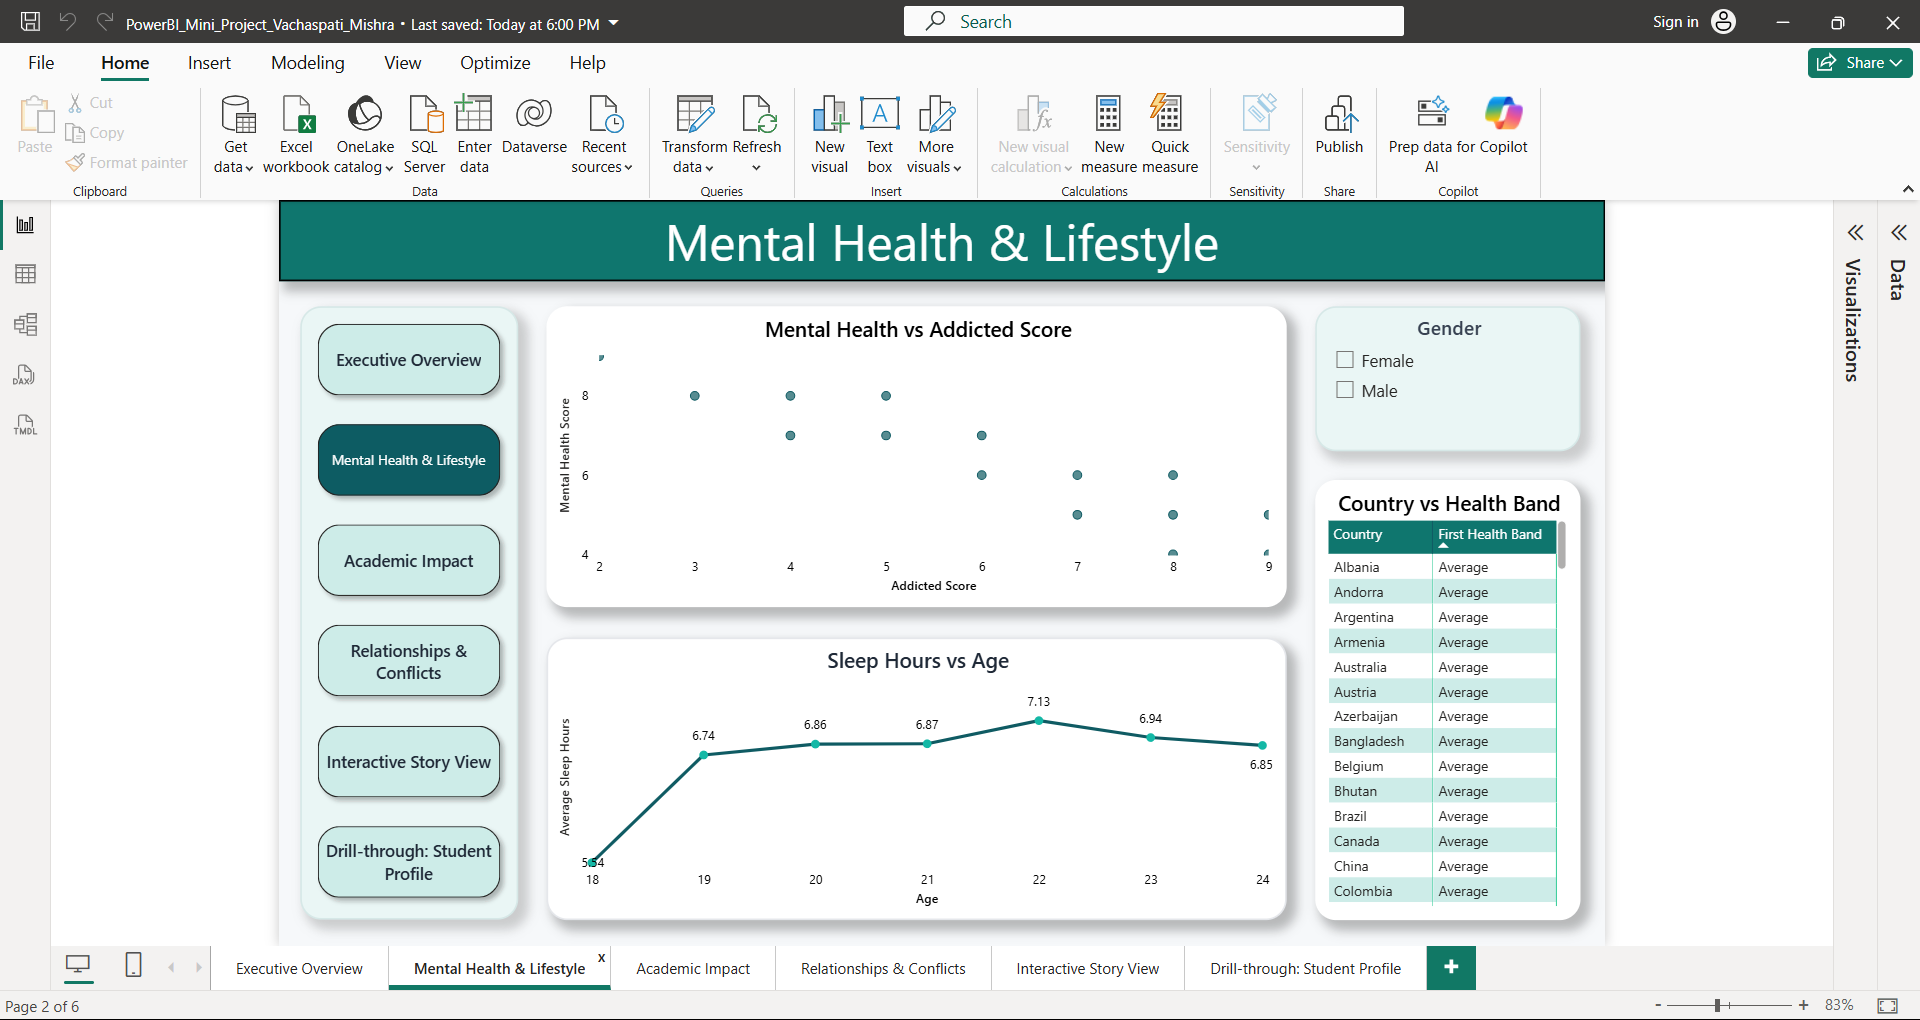

Layout of this report page (visuals, bound fields, positions):
{"tool":"powerbi","page":{"name":"Mental Health & Lifestyle","canvas":[1280,720],"ordinal":1},"visuals":[{"type":"textbox","box":[0,0,1280.3,78.3],"z":0},{"type":"pivotTable","title":"Country vs Health Band","fields":{"Rows":["Student Details.Country"],"Values":["Min(Student Details.Health Band)"]},"box":[1000.1,270.2,255.8,424.7],"z":1000},{"type":"scatterChart","title":"Mental Health vs Addicted Score","fields":{"X":["Student Details.Addicted_Score"],"Y":["Student Details.Mental_Health_Score"]},"box":[258.2,102.5,714.2,290.8],"z":2000},{"type":"lineChart","title":"Sleep Hours vs Age","fields":{"Category":["Student Details.Age"],"Y":["Avg(Student Details.Sleep_Hours_Per_Night)"]},"box":[258.2,422.3,714.2,272.7],"z":3000},{"type":"slicer","title":"Gender","fields":{"Values":["Student Details.Gender"]},"box":[1000.1,102.5,255.8,139.9],"z":4000},{"type":"pageNavigator","box":[20.5,102.5,210,592.4],"z":5000}]}

Visuals, with their boxes on the page's 1280x720 design canvas (x1, y1, x2, y2). These are canvas units, not pixel positions in the 1920x1020 screenshot, which may show the page scaled, cropped or inside an application window:
textbox: <region>0, 0, 1280, 78</region>
"Country vs Health Band" pivotTable: <region>1000, 270, 1256, 695</region>
"Mental Health vs Addicted Score" scatterChart: <region>258, 102, 972, 393</region>
"Sleep Hours vs Age" lineChart: <region>258, 422, 972, 695</region>
"Gender" slicer: <region>1000, 102, 1256, 242</region>
pageNavigator: <region>20, 102, 230, 695</region>
